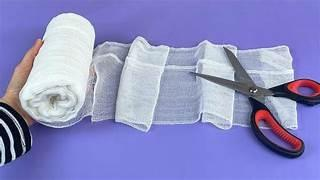cotton: (20, 13, 292, 130), (20, 14, 292, 130), (92, 37, 292, 130), (92, 37, 233, 130), (115, 37, 233, 130), (19, 13, 94, 126), (154, 41, 233, 123), (115, 38, 168, 130), (88, 43, 129, 121), (153, 66, 201, 123), (237, 46, 293, 87), (91, 54, 122, 120), (0, 102, 31, 165), (197, 78, 234, 128), (67, 64, 96, 125), (199, 78, 234, 128), (68, 64, 96, 124), (0, 118, 16, 165), (0, 138, 5, 165)
